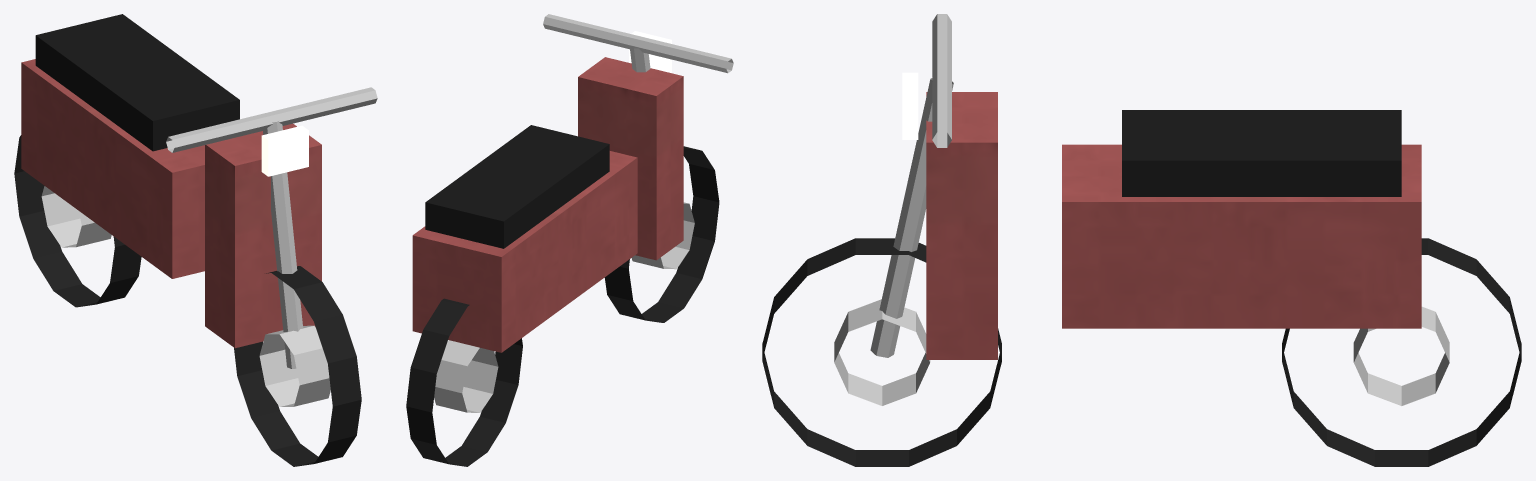
File: bike.glb
3 renders of one model, left to right at view 1: azimuth 30°, elevation 25°; view 2: azimuth 150°, elevation 25°; view 3: azimuth 270°, elevation 25°, orthographic. The views are drawn at different scales.
Visible parts, largest first — view 1: bike_2, bike_3, bike_0, bike_1, bike_4; view 2: bike_2, bike_0, bike_3, bike_1, bike_4; view 3: bike_2, bike_3, bike_1, bike_0, bike_4.
Part boxes in pixels (x1,y1,x2,y2): bike_2: (21,59,321,348); bike_3: (35,14,239,151); bike_0: (14,135,361,466); bike_1: (41,87,377,406); bike_4: (261,125,308,176); bike_2: (412,57,683,352); bike_0: (406,146,719,466); bike_3: (425,125,609,248); bike_1: (434,14,733,412); bike_4: (629,31,671,72); bike_2: (926,92,1421,359); bike_3: (1122,110,1401,196); bike_1: (834,14,1449,405); bike_0: (762,238,1521,466); bike_4: (902,72,918,139).
Size of the model in its own units: 0.7 by 1.06 by 1.9.
5 materials, 5 textured.
